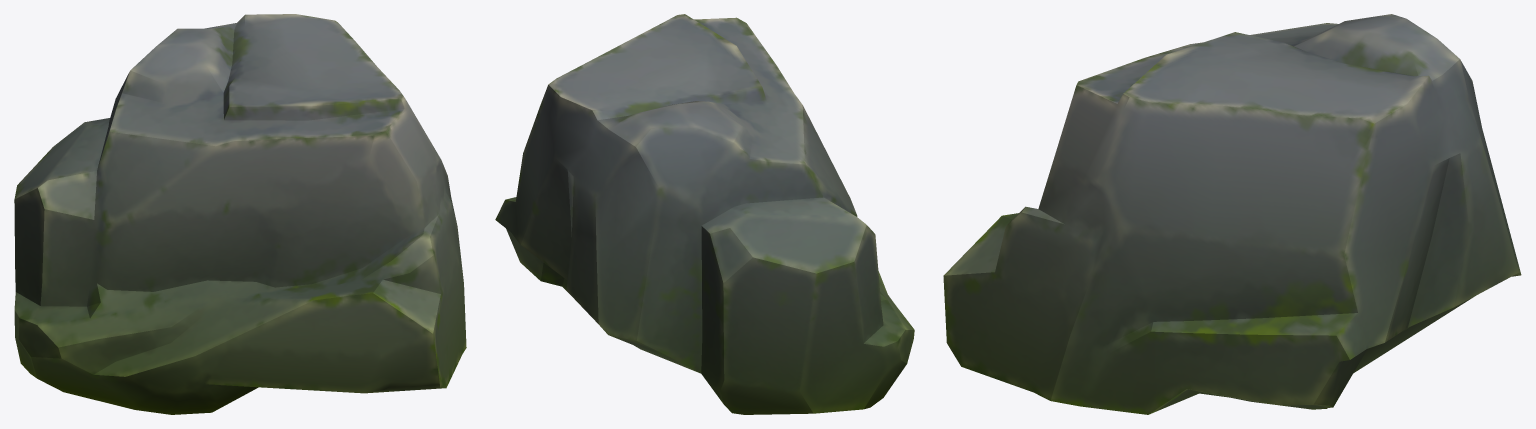
File: Rock_Medium_3.glb
The picture shows the model from 3 angles, left to right: view 1: azimuth 30°, elevation 25°; view 2: azimuth 150°, elevation 25°; view 3: azimuth 270°, elevation 25°; orthographic projection. The views are drawn at different scales.
Parts seen in each view (by area): view 1: Rock_Medium_3; view 2: Rock_Medium_3; view 3: Rock_Medium_3.
Boxes of the visible parts, box(x1,y1,x2,y2) form: Rock_Medium_3: box(14, 14, 466, 414); Rock_Medium_3: box(495, 14, 914, 414); Rock_Medium_3: box(943, 14, 1521, 414).
Bounding box in the file's own units: 3.42 × 2.32 × 3.48.
1 material, 1 textured.
